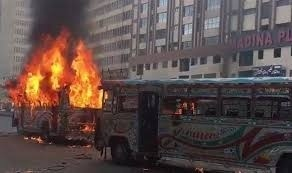fire: (7, 32, 111, 110), (163, 96, 198, 115), (22, 130, 50, 145)
